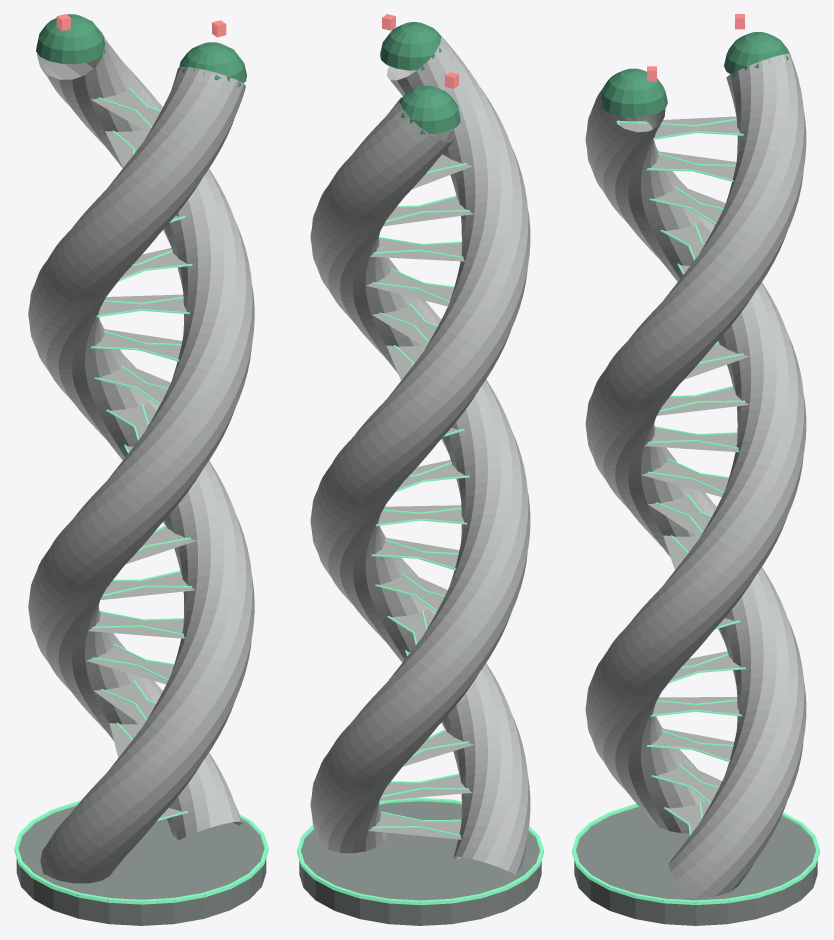
Rendered from solace_landmark.glb.
The picture shows the model from 3 angles, left to right: view 1: azimuth 30°, elevation 25°; view 2: azimuth 150°, elevation 25°; view 3: azimuth 270°, elevation 25°; orthographic projection. The views are drawn at different scales.
Parts seen in each view (by area): view 1: landmark_solace; view 2: landmark_solace; view 3: landmark_solace.
Part boxes in pixels (bbox=[...]): landmark_solace: bbox=[14, 14, 268, 925]; landmark_solace: bbox=[297, 14, 543, 925]; landmark_solace: bbox=[572, 14, 819, 925].
Bounding box in the file's own units: 24.45 × 90.6 × 24.45.
